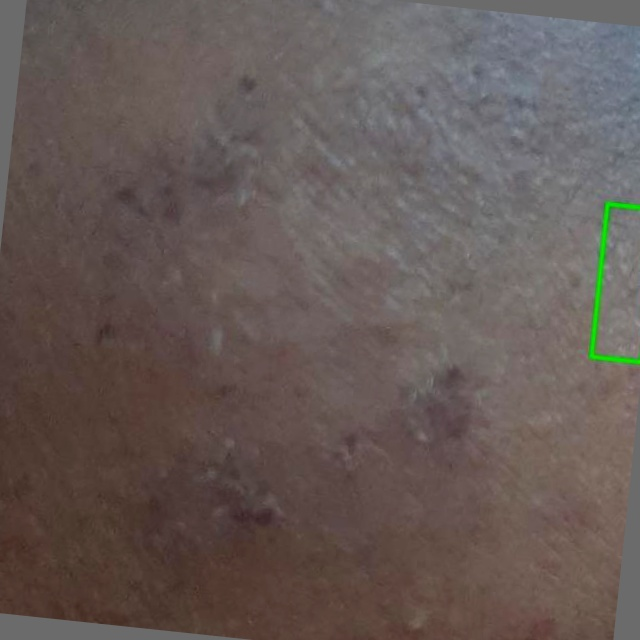Tinea Corporis: (591, 205, 639, 363)
